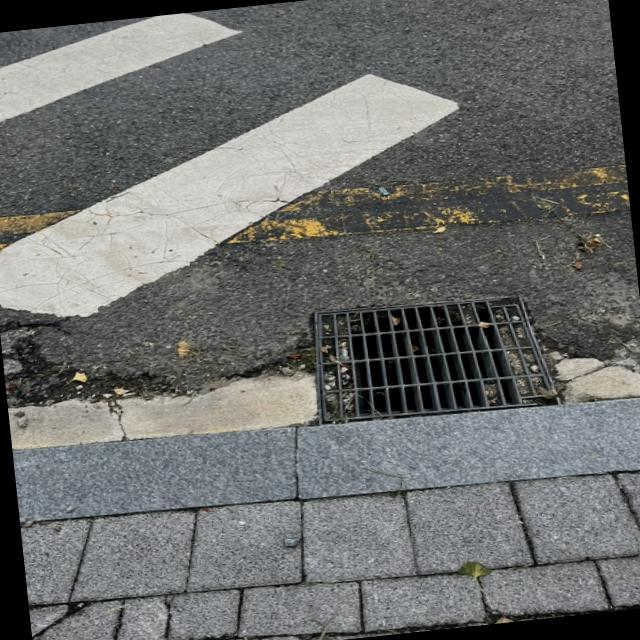drain_area: (353, 306, 519, 415)
drain_full: (317, 297, 560, 425)
